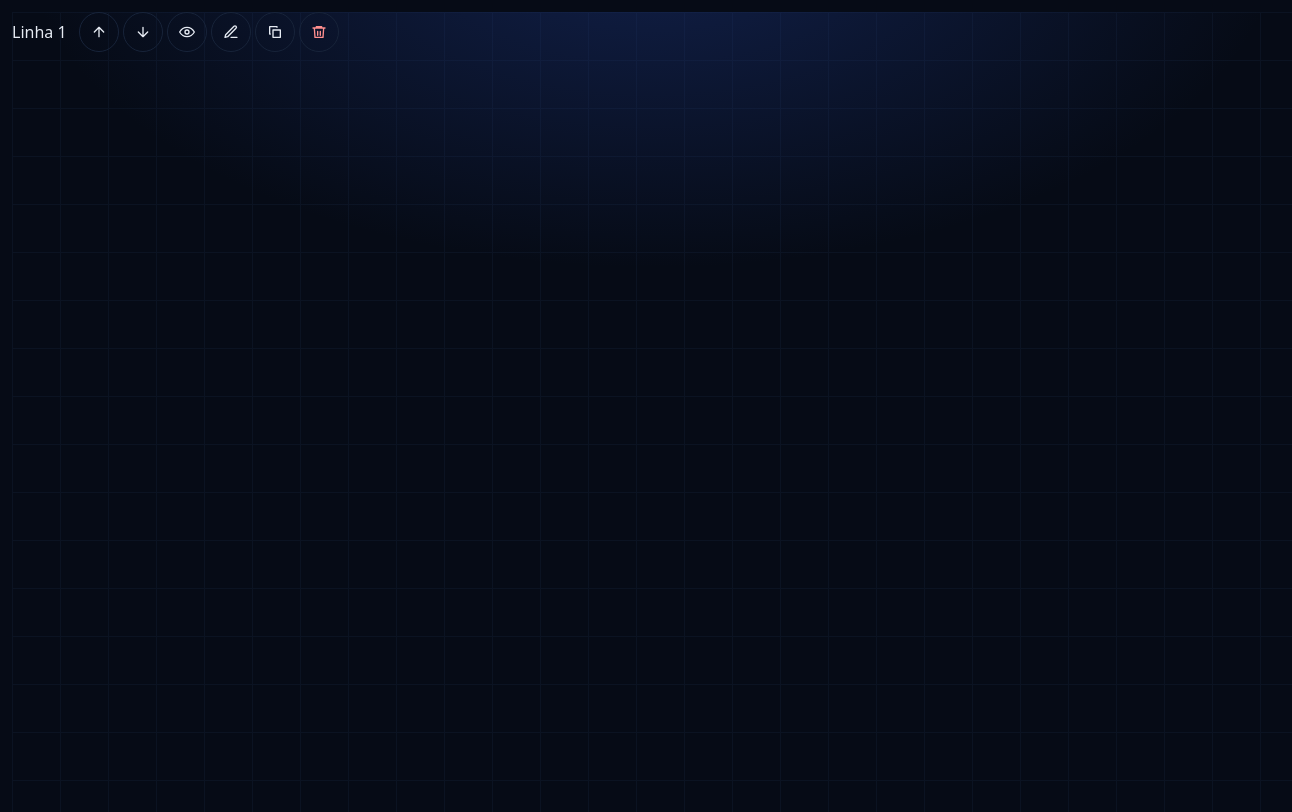
Test: RowActions › ocultar avisa que saiu do site
Click the button named "Ocultar" at x=187, y=32, box [167,12,207,52]
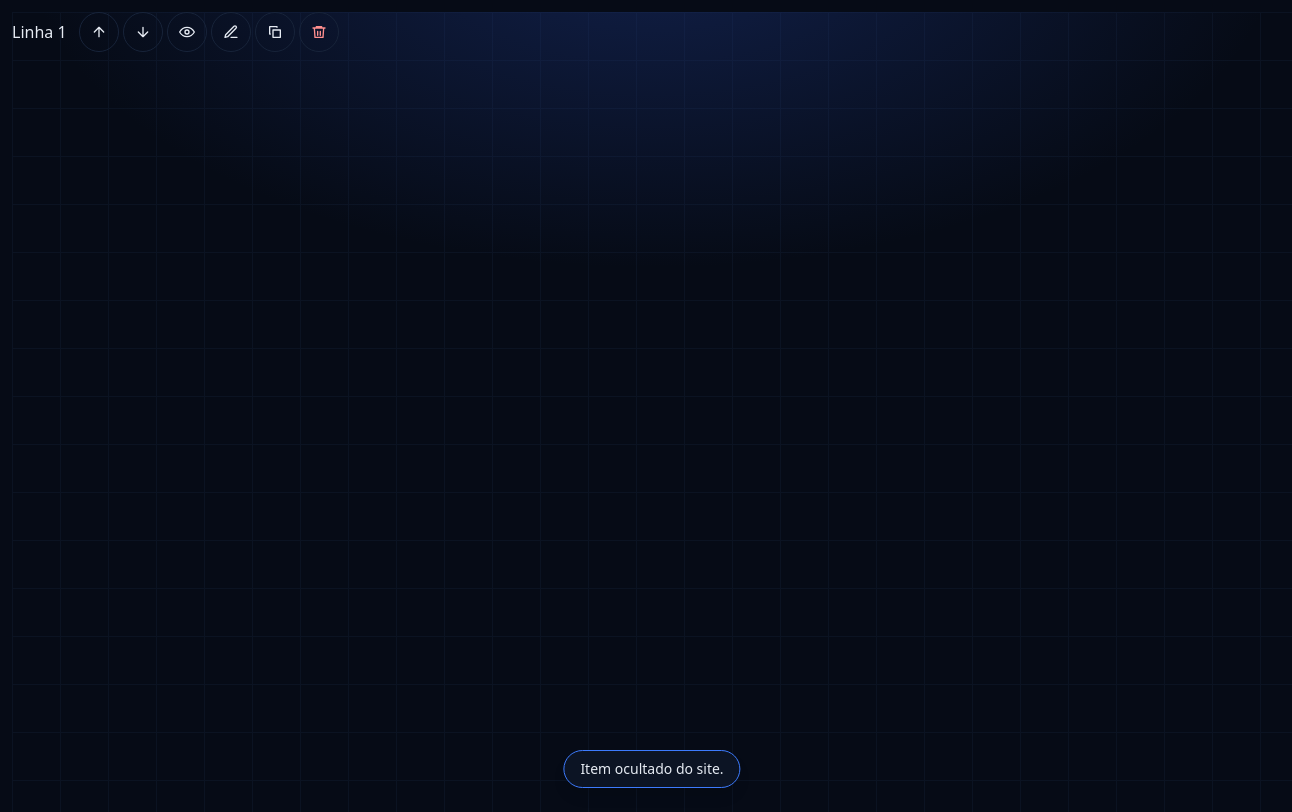
expect the text "Item ocultado do site." is shown: met, box [563,750,741,788]
